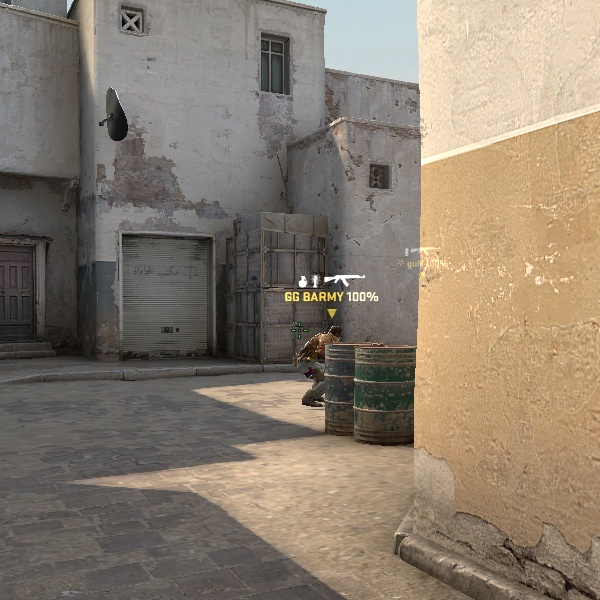t_body: (293, 322, 339, 412)
